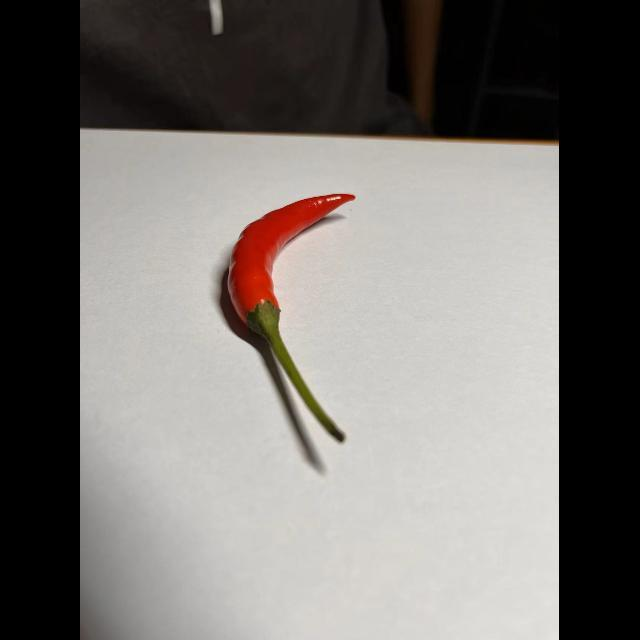chili_pepper: (206, 186, 385, 448)
